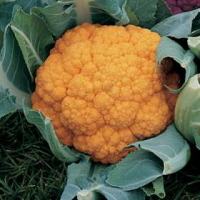cauliflower: (27, 24, 175, 158)
